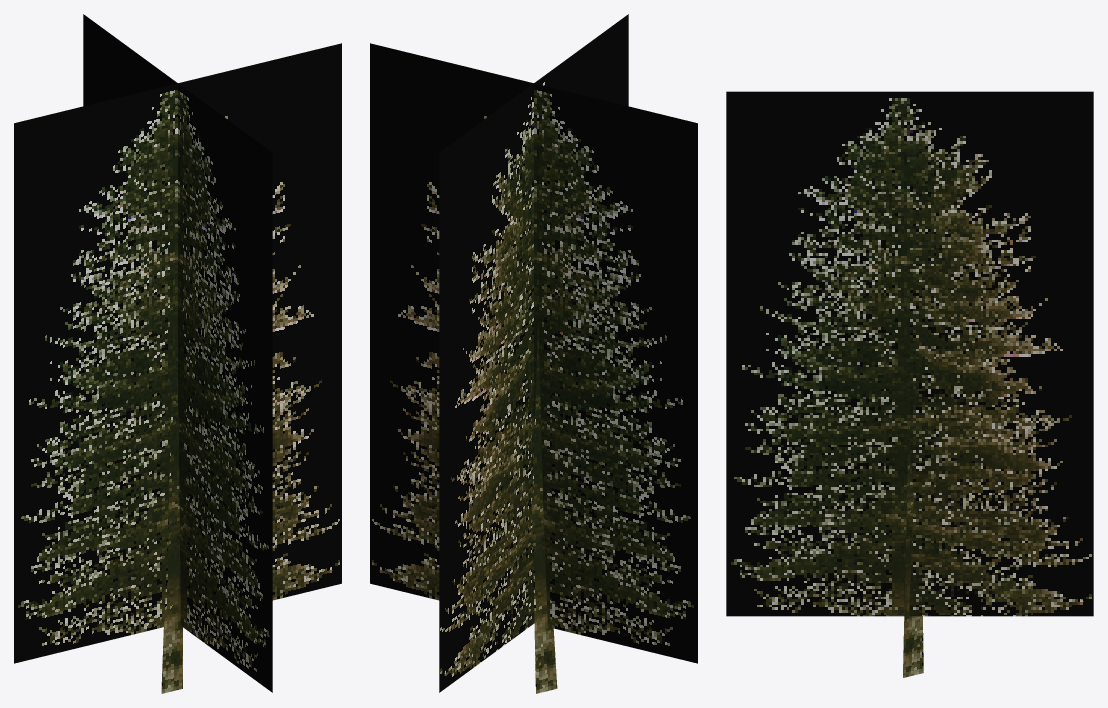
The model's file is pine_tree.glb.
The picture shows the model from 3 angles, left to right: view 1: azimuth 30°, elevation 25°; view 2: azimuth 150°, elevation 25°; view 3: azimuth 270°, elevation 25°; orthographic projection. The views are drawn at different scales.
Visible parts, largest first — view 1: PineTree; view 2: PineTree; view 3: PineTree.
Part boxes in pixels (x1,y1,x2,y2): PineTree: (14, 14, 341, 693); PineTree: (370, 14, 697, 693); PineTree: (726, 91, 1093, 677).
Size of the model in its own units: 2.83 by 4.98 by 2.83.
1 material, 1 textured.
